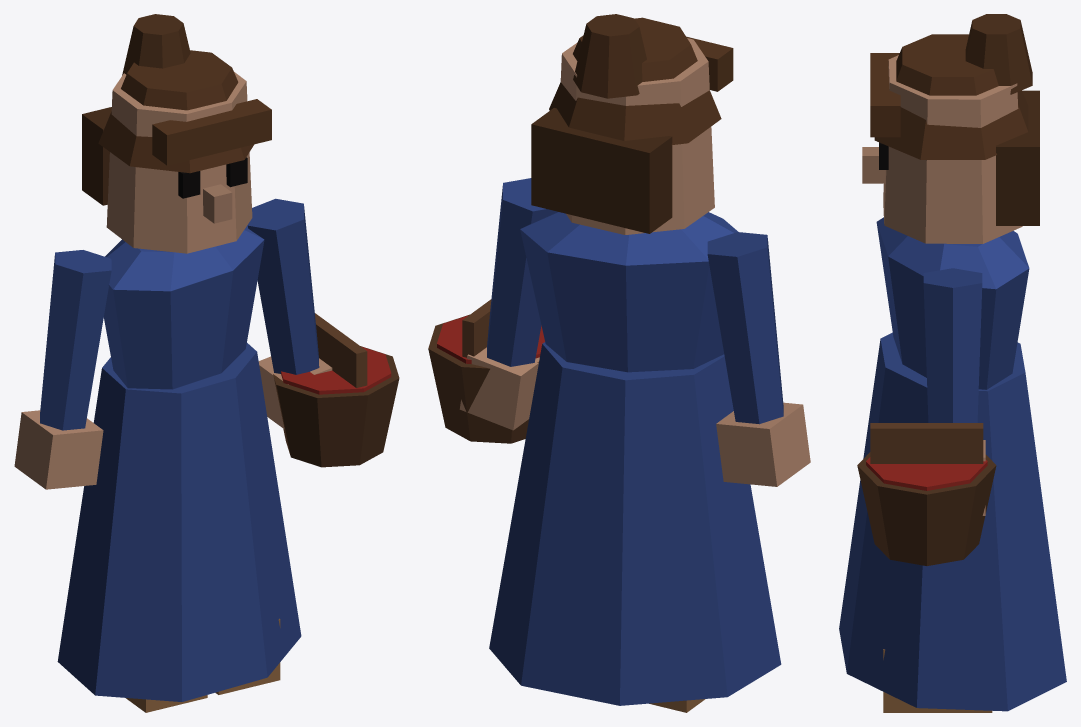
Rendered from mom.glb.
3 views of the same model, side by side, from view 1: azimuth 30°, elevation 25°; view 2: azimuth 150°, elevation 25°; view 3: azimuth 270°, elevation 25° (orthographic). The views are drawn at different scales.
Parts seen in each view (by area): view 1: mom_torso, mom_head, mom_arm_r, mom_basket, mom_arm_l; view 2: mom_torso, mom_head, mom_arm_r, mom_arm_l, mom_basket; view 3: mom_torso, mom_head, mom_basket, mom_arm_l, mom_leg_l.
Boxes of the visible parts, x1,y1,x2,y2 form: mom_torso: (57,225,301,701); mom_head: (82,14,271,253); mom_arm_r: (14,250,111,489); mom_basket: (273,313,399,467); mom_arm_l: (247,198,332,429); mom_torso: (489,211,781,705); mom_head: (531,14,733,234); mom_arm_r: (707,232,810,486); mom_arm_l: (459,178,556,430); mom_basket: (428,299,544,443); mom_torso: (839,217,1066,711); mom_head: (862,14,1039,243); mom_basket: (857,423,996,565); mom_arm_l: (923,268,985,515); mom_leg_l: (883,649,992,712).
Bounding box in the file's own units: 0.9042 × 1.56 × 0.4921.
